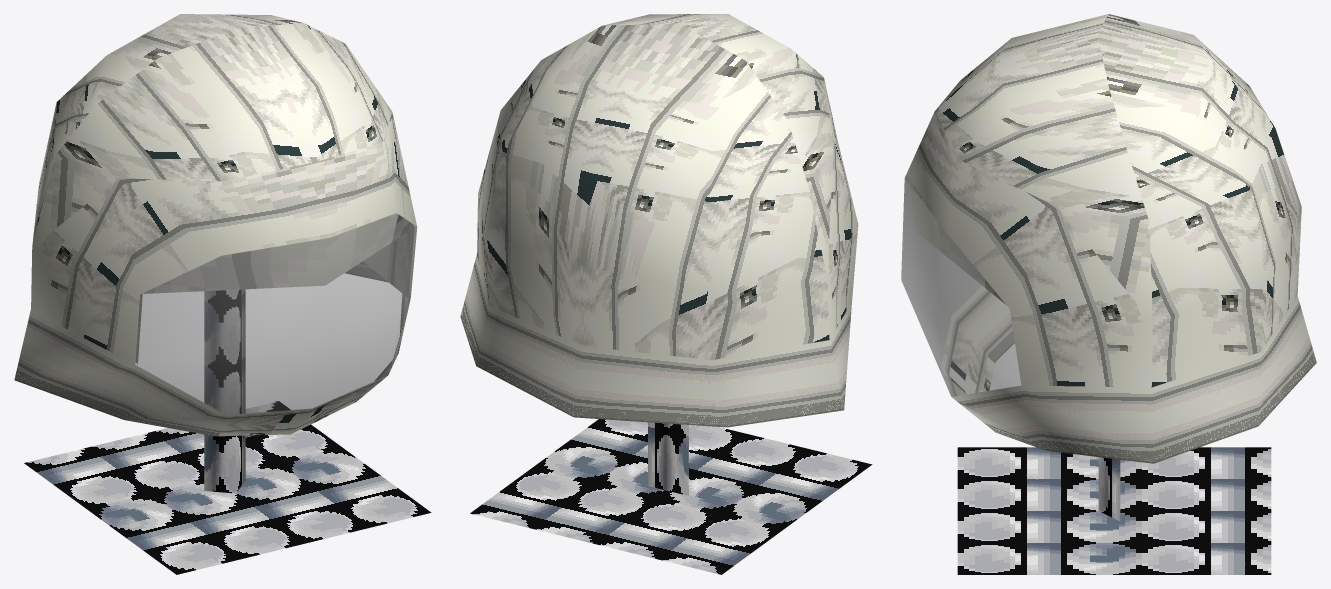
The model's file is 2923head051_c.gltf.
3 renders of one model, left to right at view 1: azimuth 30°, elevation 25°; view 2: azimuth 150°, elevation 25°; view 3: azimuth 270°, elevation 25°, orthographic. The views are drawn at different scales.
Visible parts, largest first — view 1: 2923head051_c; view 2: 2923head051_c; view 3: 2923head051_c.
Part boxes in pixels (x1,y1,x2,y2): 2923head051_c: (14,14,431,574); 2923head051_c: (460,14,872,574); 2923head051_c: (901,14,1316,574).
Size of the model in its own units: 0.7046 by 0.8142 by 0.6365.
3 materials, 2 textured.
